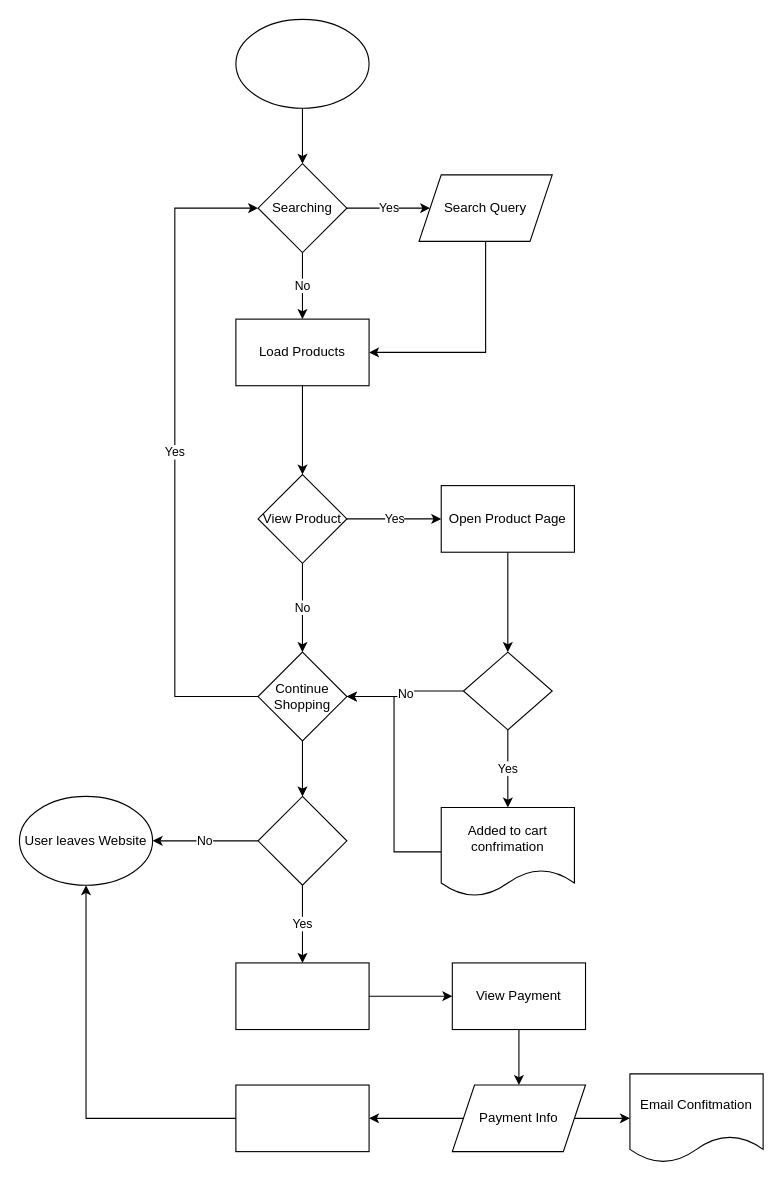
This 783x1182 diagram has some shape labels left out. The centre of each missing label's shape, as x and y in pixels:
"Add to cart" belongs at (x=507, y=690).
"Checkout" belongs at (x=302, y=840).
"Order Confirmation Page" belongs at (x=302, y=1118).
"User Enters Website" belongs at (x=302, y=63).
"View Cart" belongs at (x=302, y=996).
